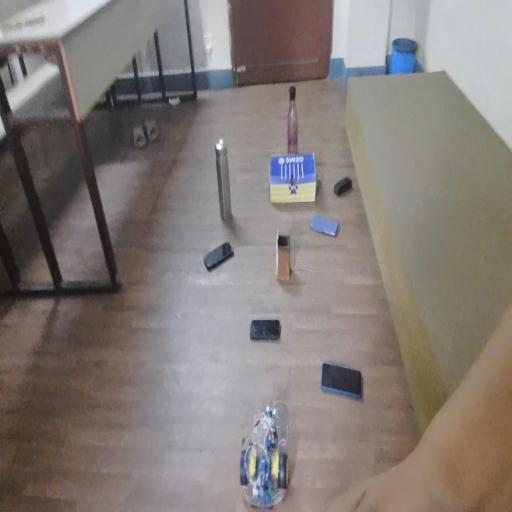Bottle: (293, 92, 314, 151)
car: (238, 408, 296, 512)
